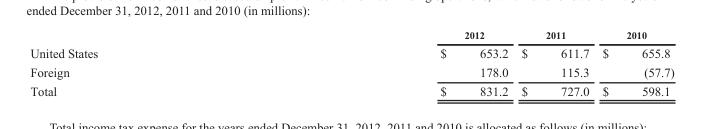table: (29, 29, 673, 97)
table column: (268, 29, 514, 97), (29, 29, 268, 97), (514, 29, 595, 97), (595, 29, 673, 97)
table column header: (29, 29, 673, 43)
table row: (29, 43, 673, 62), (29, 62, 673, 81), (29, 81, 673, 97), (29, 29, 673, 43)
